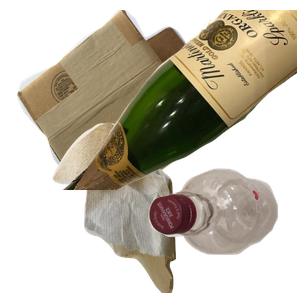cardboard: (14, 10, 222, 190)
glass: (60, 10, 300, 190)
plastic: (146, 166, 300, 300)
trash: (50, 120, 219, 300)
